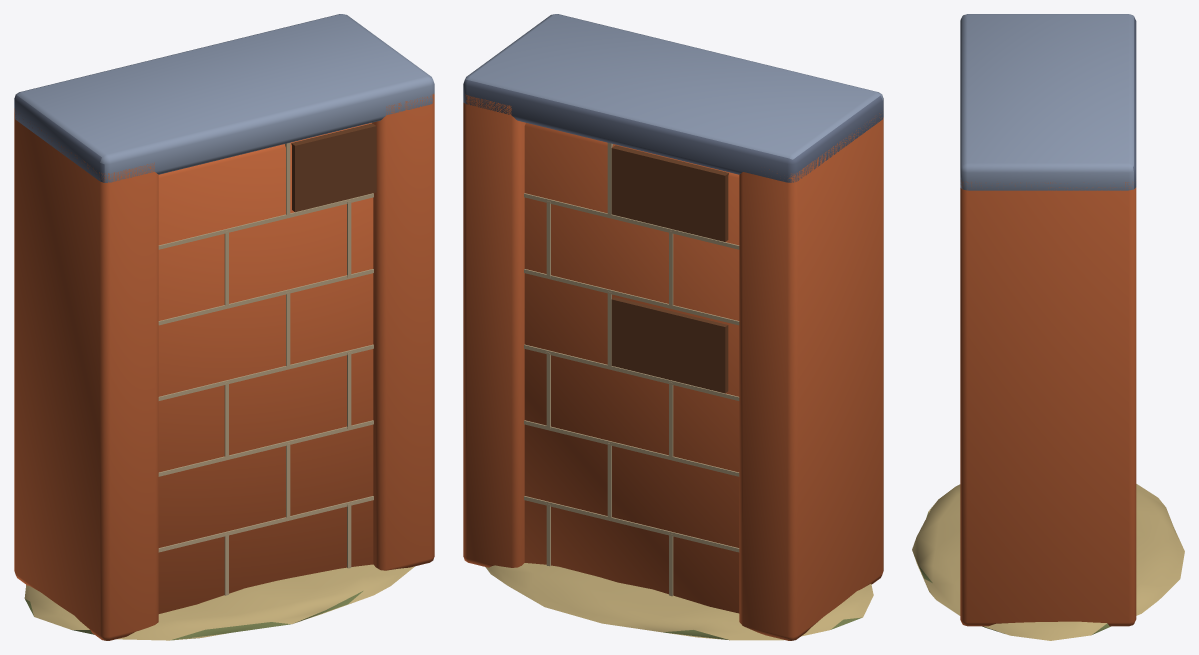
The model's file is BrickWallA.fbx.
3 views of the same model, side by side, from view 1: azimuth 30°, elevation 25°; view 2: azimuth 150°, elevation 25°; view 3: azimuth 270°, elevation 25° (orthographic). The views are drawn at different scales.
Parts seen in each view (by area): view 1: BrickWallA; view 2: BrickWallA; view 3: BrickWallA.
Boxes of the visible parts, x1=… form: BrickWallA: x1=14, y1=14, x2=434, y2=640; BrickWallA: x1=463, y1=14, x2=883, y2=640; BrickWallA: x1=912, y1=14, x2=1184, y2=640.
Bounding box in the file's own units: 1.72 × 2.09 × 1.12.
Materials: 1 (1 with a texture image).
